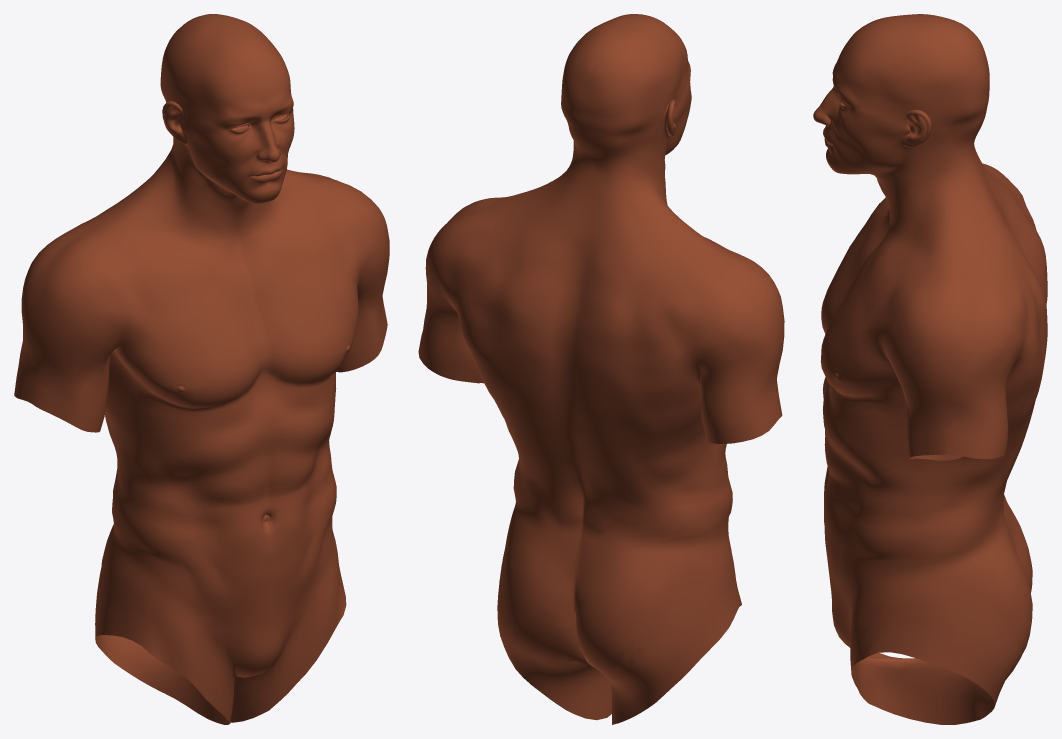
File: digestive.fbx
3 renders of one model, left to right at view 1: azimuth 30°, elevation 25°; view 2: azimuth 150°, elevation 25°; view 3: azimuth 270°, elevation 25°, orthographic. The views are drawn at different scales.
Visible parts, largest first — view 1: skin; view 2: skin; view 3: skin.
Part boxes in pixels (<box>): skin: <box>14,14,389,724</box>; skin: <box>418,14,784,724</box>; skin: <box>813,14,1047,724</box>.
Size of the model in its own units: 52.51 by 98.63 by 29.83.
